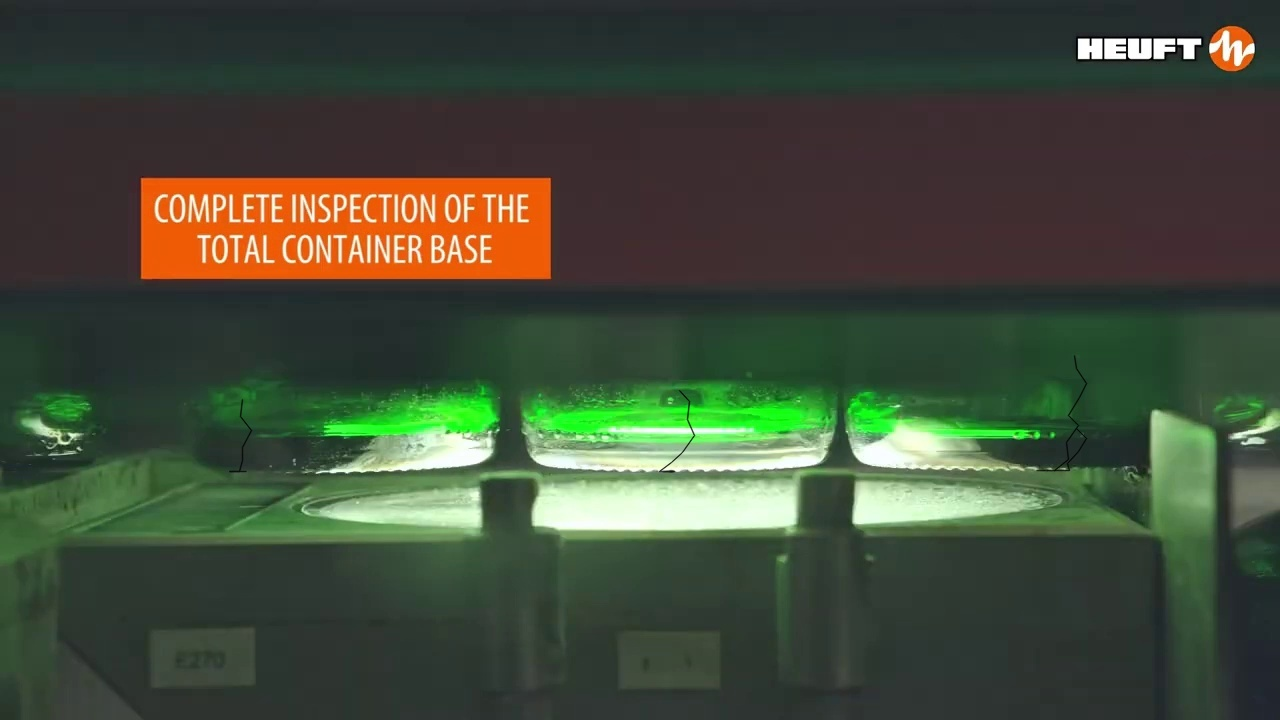bottle: (514, 377, 832, 474), (186, 375, 498, 471), (839, 378, 1154, 470)
crack: (1054, 355, 1086, 470), (659, 390, 694, 471), (1036, 428, 1086, 470), (229, 399, 251, 471)
